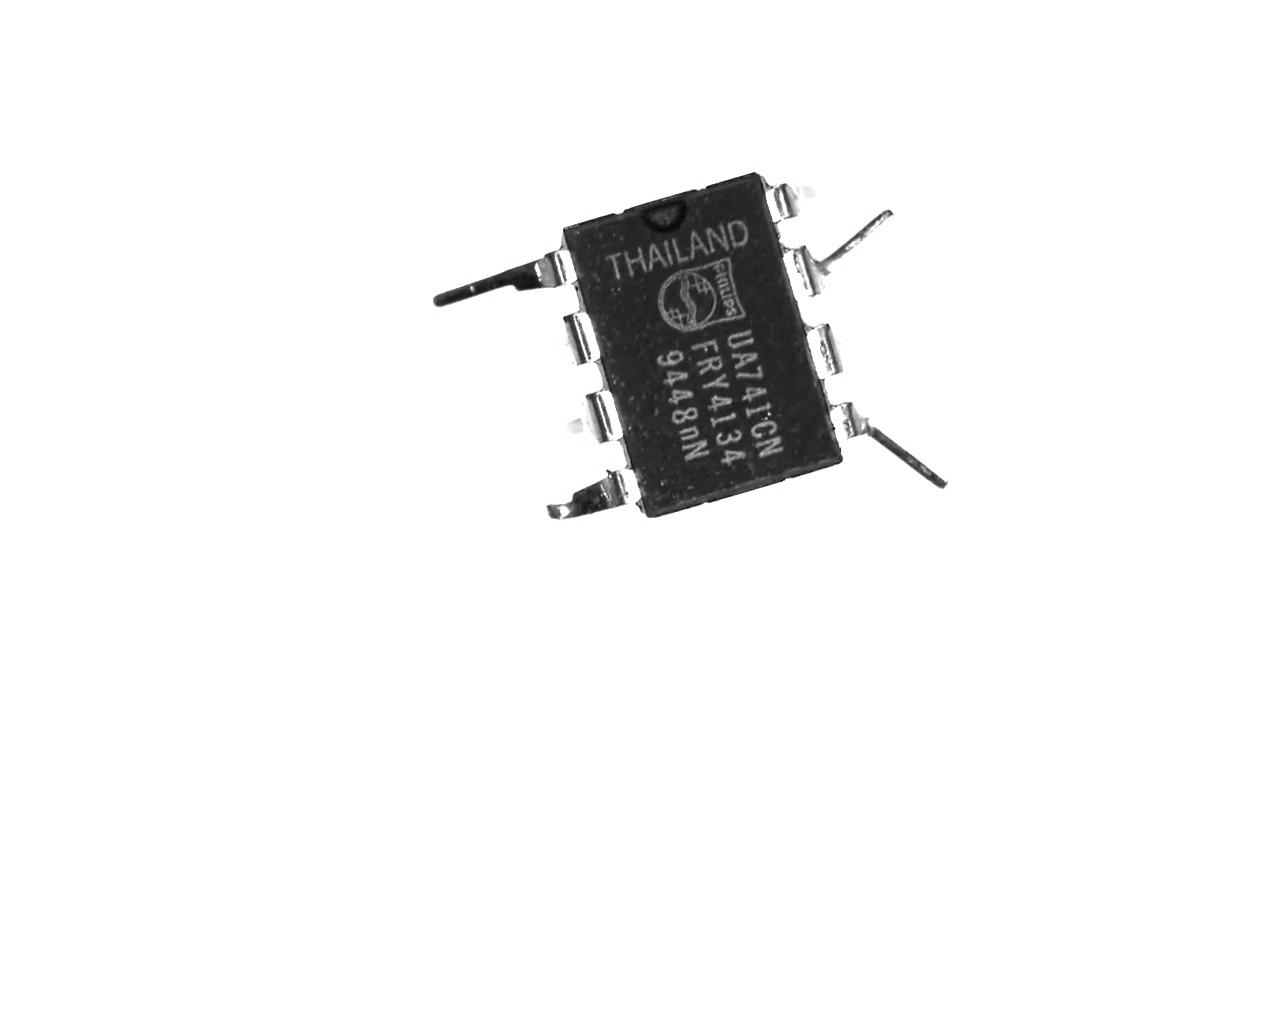Leg: (820, 390, 950, 495), (399, 248, 576, 311), (784, 209, 899, 304), (526, 468, 646, 532), (559, 385, 628, 464), (548, 306, 603, 373), (801, 310, 851, 385), (757, 174, 821, 226)
